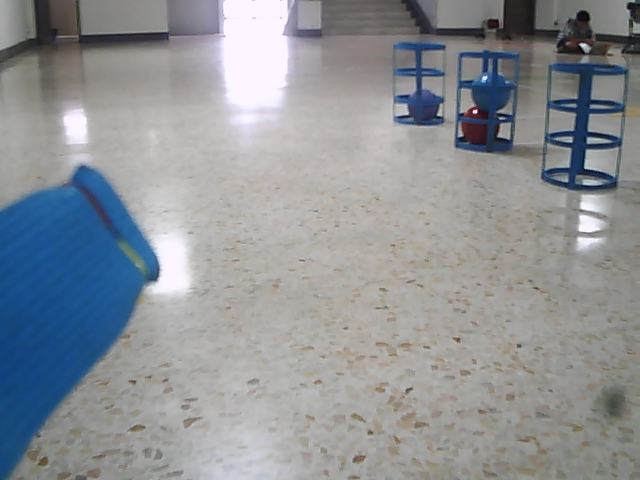Blue ball: (471, 70, 511, 112)
Cyro: (540, 60, 630, 194), (453, 48, 519, 157), (389, 40, 448, 128)
Purple ball: (406, 87, 439, 120)
Red ball: (461, 105, 500, 146)
